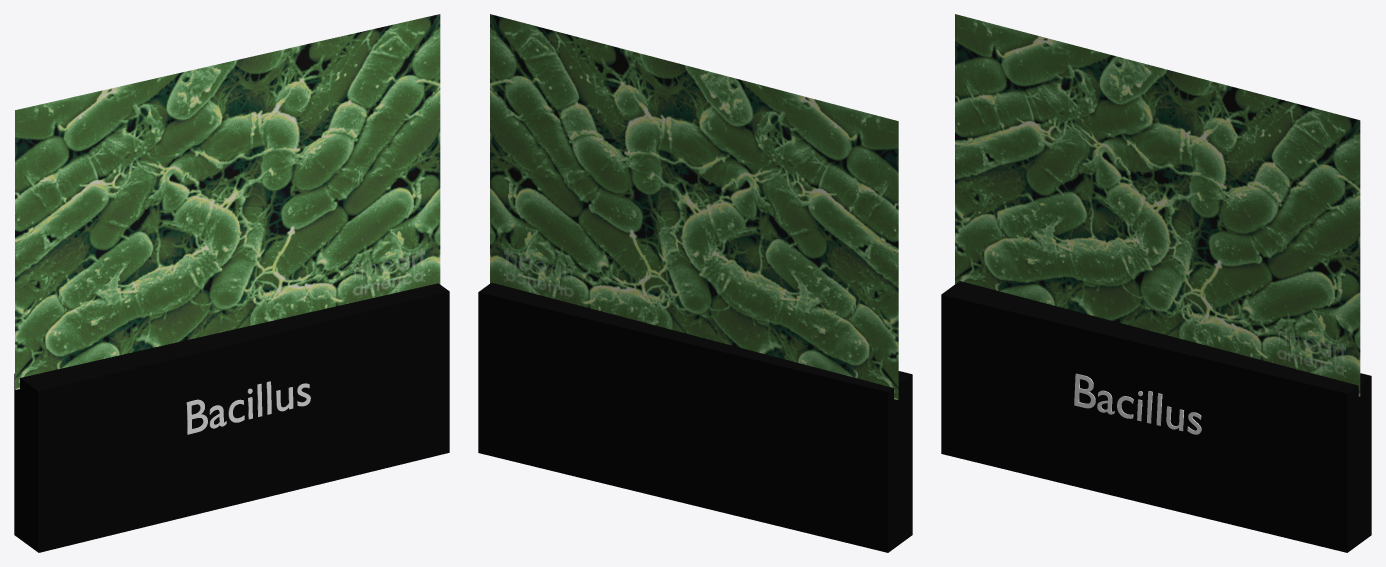
File: bacillus.gltf
3 renders of one model, left to right at view 1: azimuth 30°, elevation 25°; view 2: azimuth 150°, elevation 25°; view 3: azimuth 330°, elevation 25°, orthographic.
Parts seen in each view (by area): view 1: Bacillus, Cube.004, Text.004; view 2: Bacillus, Cube.004; view 3: Bacillus, Cube.004, Text.004.
Boxes of the visible parts, x1,y1,x2,y2 form: Bacillus: (15,14,440,389); Cube.004: (14,283,449,552); Text.004: (186,381,310,434); Bacillus: (490,14,898,400); Cube.004: (478,282,912,552); Bacillus: (955,14,1360,396); Cube.004: (941,281,1371,552); Text.004: (1074,373,1201,434).
Bounding box in the file's own units: 2.07 × 2.04 × 0.2748.
2 materials, 1 textured.
